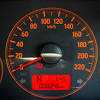Digital_Meter: (30, 73, 73, 92)
